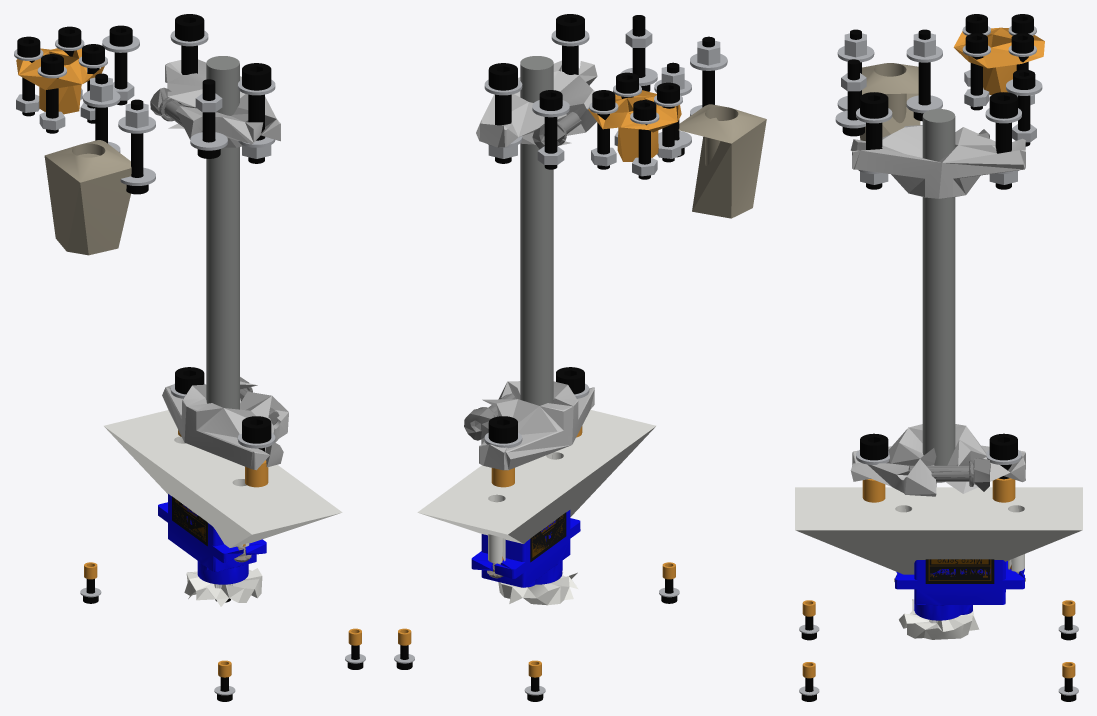
The picture shows the model from 3 angles, left to right: view 1: azimuth 30°, elevation 25°; view 2: azimuth 150°, elevation 25°; view 3: azimuth 270°, elevation 25°; orthographic projection. The views are drawn at different scales.
Visible parts, largest first — view 1: n8, n2, n4, n5, n3, n1, n0, n9, n6, n10; view 2: n8, n2, n4, n5, n3, n1, n0, n9, n6, n10; view 3: n8, n5, n4, n2, n1, n0, n9, n3, n10, n6, n11.
Part boxes in pixels (<box>): n8: <box>104,410,342,606</box>; n2: <box>17,14,363,701</box>; n4: <box>206,56,239,409</box>; n5: <box>162,59,288,470</box>; n3: <box>44,140,131,255</box>; n1: <box>14,30,365,695</box>; n0: <box>16,48,361,677</box>; n9: <box>158,494,266,584</box>; n6: <box>150,87,279,425</box>; n10: <box>172,496,207,546</box>; n8: <box>417,409,656,605</box>; n2: <box>396,14,714,701</box>; n4: <box>520,56,553,405</box>; n5: <box>476,60,597,470</box>; n3: <box>678,104,766,218</box>; n1: <box>394,29,727,695</box>; n0: <box>398,90,681,677</box>; n9: <box>471,510,580,587</box>; n6: <box>464,111,582,440</box>; n10: <box>530,512,566,562</box>; n8: <box>795,487,1082,639</box>; n5: <box>850,125,1025,496</box>; n4: <box>922,109,955,482</box>; n2: <box>801,14,1076,701</box>; n1: <box>799,26,1078,695</box>; n0: <box>802,27,1075,678</box>; n9: <box>895,560,1024,620</box>; n3: <box>860,63,920,141</box>; n10: <box>925,559,994,583</box>; n6: <box>908,129,990,491</box>; n11: <box>928,559,991,580</box>.
Size of the model in its own units: 0.0719 by 0.071 by 0.1575.
